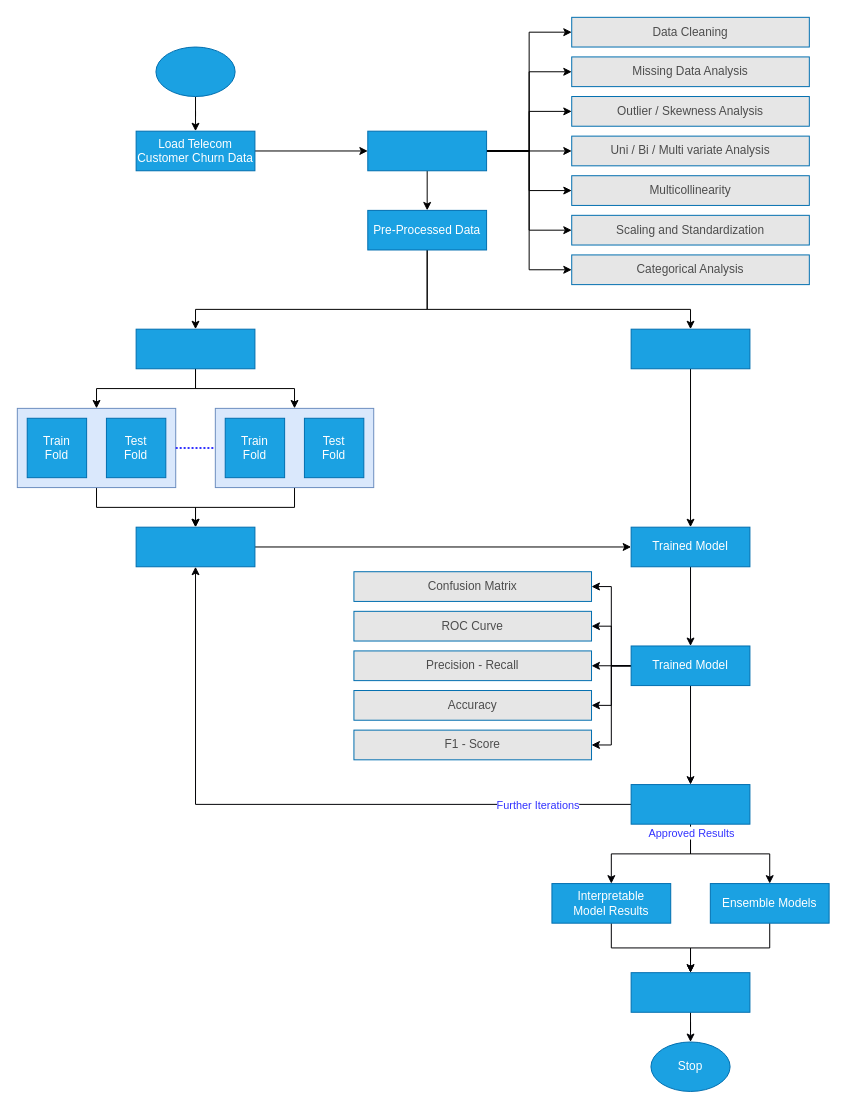
Image size: 846x1109. Some labels were removed from this diagram. The centre of each missing label's shape, as x and y in pixels:
Actionable insights and best model: the point at 690,992
Data Pre-Processing: the point at 427,150
Machine Learning Models: the point at 195,546
Model Evaluation: the point at 690,804
Start: the point at 195,71
Test Data: the point at 690,348
Train Data: the point at 195,348
